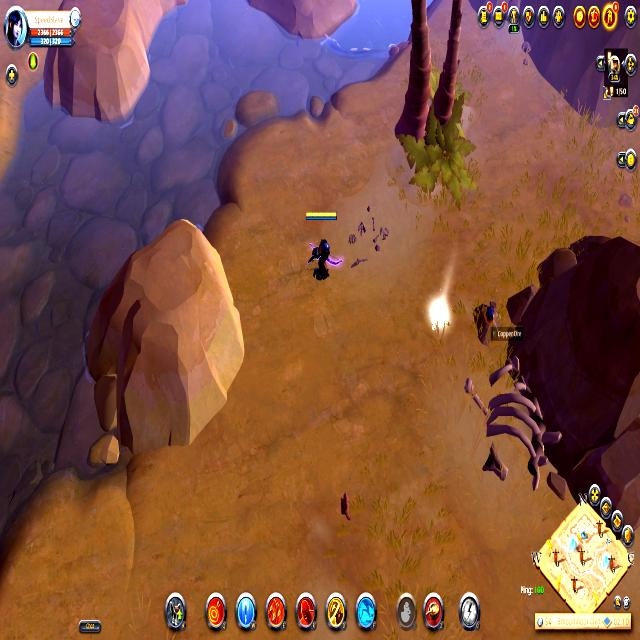player: (471, 295, 505, 348)
red: (302, 208, 341, 288)
stone: (429, 297, 450, 336)
